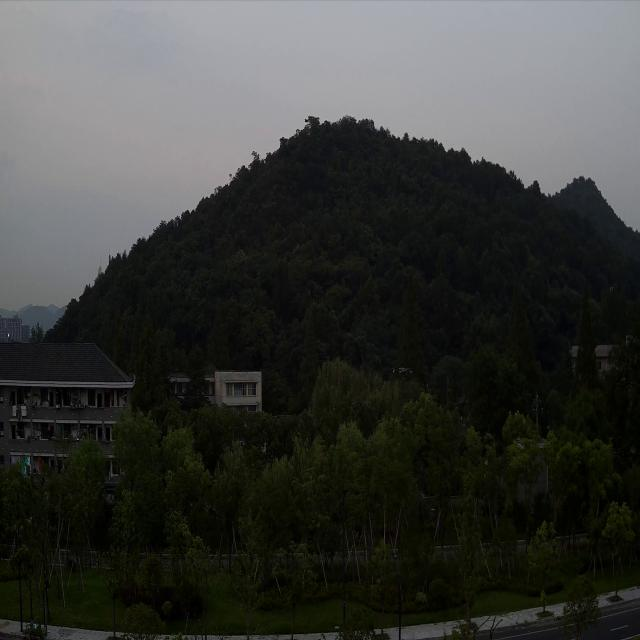UAV: (388, 366, 414, 375)
